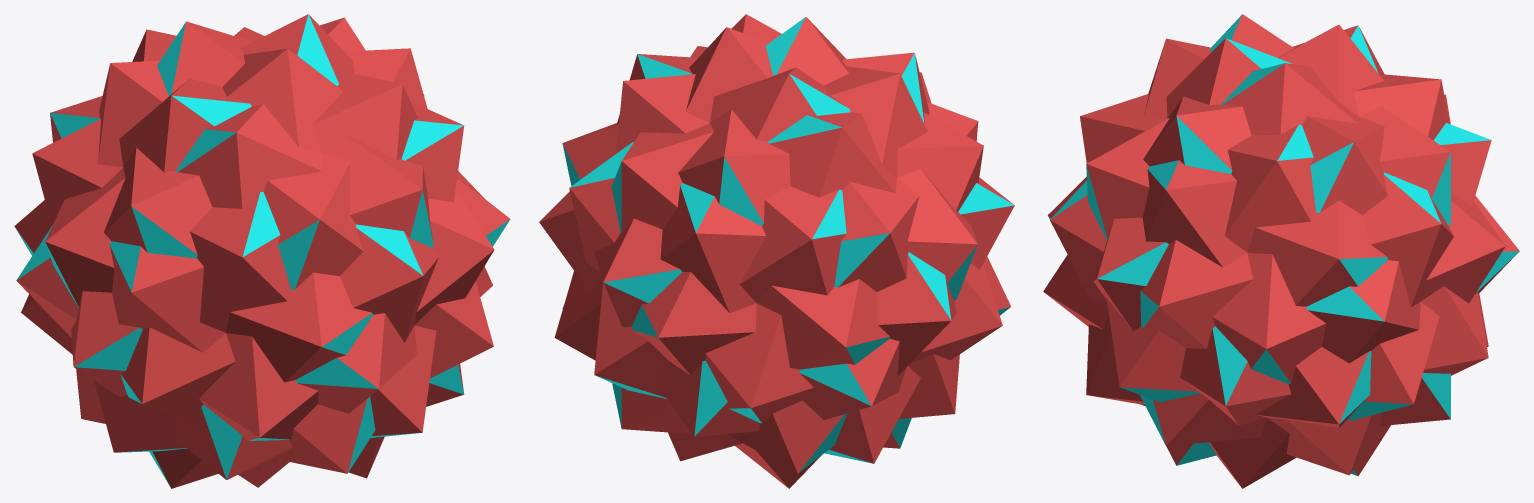
Rendered from great_snub_icosidodecahedron.obj.
3 views of the same model, side by side, from view 1: azimuth 30°, elevation 25°; view 2: azimuth 150°, elevation 25°; view 3: azimuth 270°, elevation 25° (orthographic). The views are drawn at different scales.
Parts seen in each view (by area): view 1: Shape_IndexedFaceSet.001, Shape_IndexedFaceSet; view 2: Shape_IndexedFaceSet.001, Shape_IndexedFaceSet; view 3: Shape_IndexedFaceSet.001, Shape_IndexedFaceSet.
Boxes of the visible parts, x1=… form: Shape_IndexedFaceSet.001: x1=14, y1=14, x2=509, y2=488; Shape_IndexedFaceSet: x1=15, y1=14, x2=510, y2=487; Shape_IndexedFaceSet.001: x1=539, y1=14, x2=1014, y2=488; Shape_IndexedFaceSet: x1=562, y1=17, x2=1014, y2=472; Shape_IndexedFaceSet.001: x1=1043, y1=14, x2=1519, y2=488; Shape_IndexedFaceSet: x1=1048, y1=15, x2=1519, y2=475.
Size of the model in its own units: 2.49 by 2.5 by 2.51.
